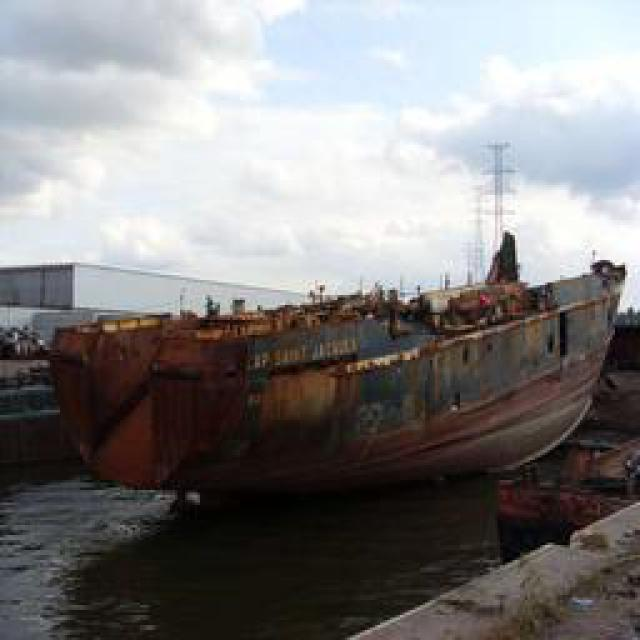Ship: (53, 250, 621, 495)
